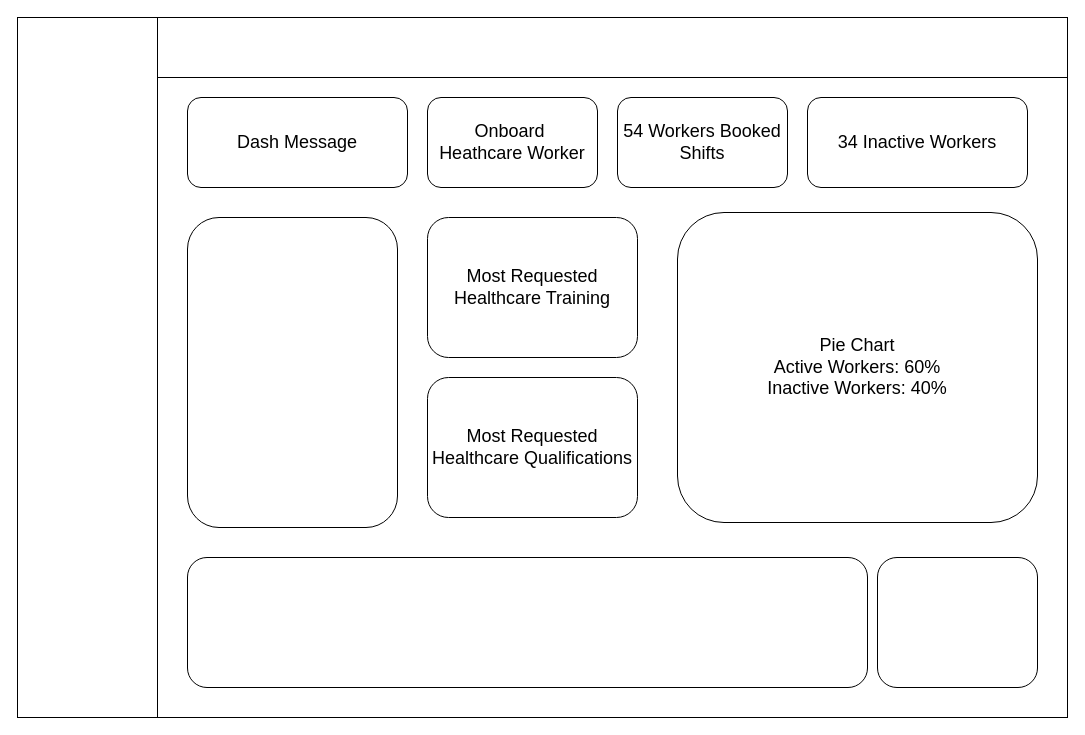
The diagram is 1085 pixels wide and 735 high, and some of its shapes have lost their labels. Here are the shapes that lost their labels. From the top down, the centre of each, then its label:
At pixel 292 372: "Most Requested Healthcare Workers".
At pixel 527 622: "Healthcare Worker Feedback".
At pixel 957 622: "Home".
